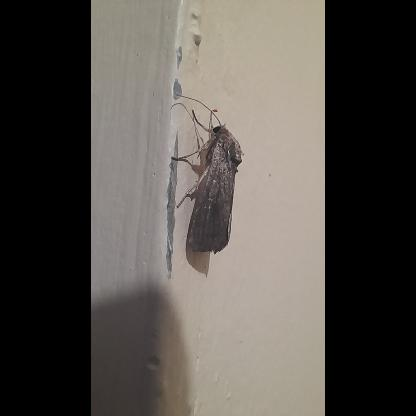Fall Armyworm Moth: (168, 92, 246, 256)
